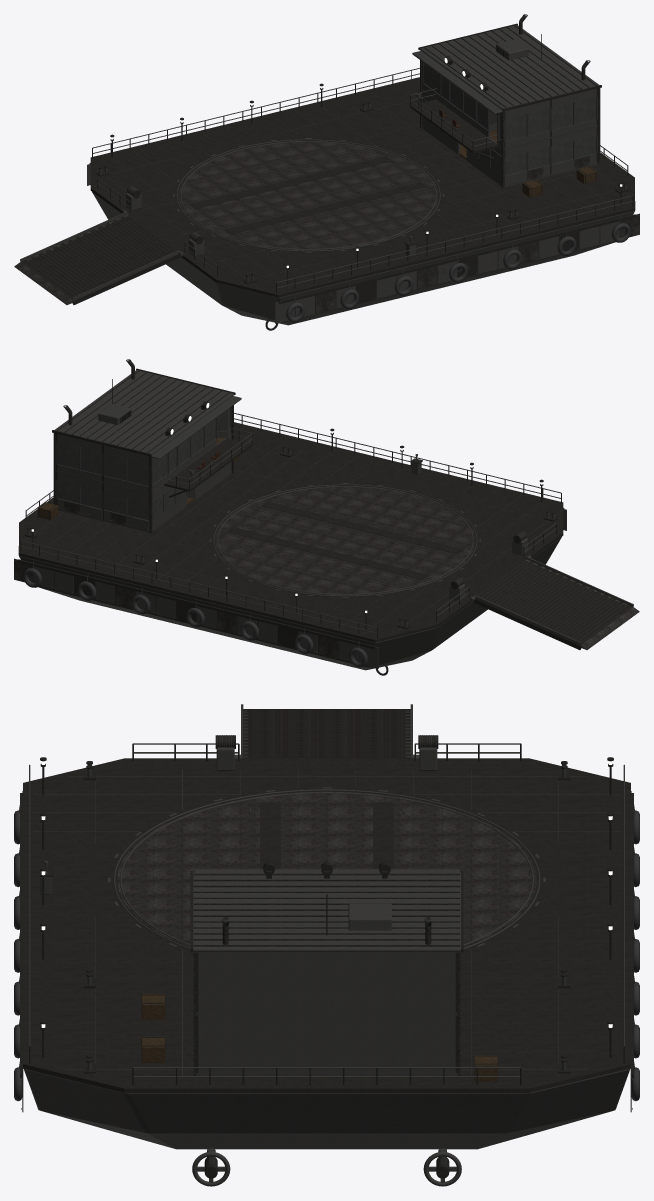
The model's file is hurda-ferry.glb.
The picture shows the model from 3 angles, top to bottom: view 1: azimuth 30°, elevation 25°; view 2: azimuth 150°, elevation 25°; view 3: azimuth 270°, elevation 25°; orthographic projection. The views are drawn at different scales.
Visible parts, largest first — view 1: Hull_Deck_Geometry, Turntable_Pivot_Geometry, Cabin_Structure_Geometry, BowRamp_Hinge_Geometry, Cabin_Structure.001_Geometry, Deck_Details_Geometry, Balcony_Stairs_Geometry, Turntable_Geometry, Bow_Ramp_Geometry; view 2: Hull_Deck_Geometry, Turntable_Pivot_Geometry, Cabin_Structure_Geometry, BowRamp_Hinge_Geometry, Cabin_Structure.001_Geometry, Balcony_Stairs_Geometry, Deck_Details_Geometry, Turntable_Geometry, Bow_Ramp_Geometry; view 3: Hull_Deck_Geometry, Cabin_Structure_Geometry, Turntable_Pivot_Geometry, Cabin_Structure.001_Geometry, BowRamp_Hinge_Geometry, Deck_Details_Geometry, Turntable_Geometry, Bow_Ramp_Geometry, Azimuth_Pivot_-8_Geometry, Azimuth_Pivot_8_Geometry.
Part boxes in pixels (bbox=[...]): Hull_Deck_Geometry: bbox=[87, 68, 639, 325]; Turntable_Pivot_Geometry: bbox=[178, 141, 438, 250]; Cabin_Structure_Geometry: bbox=[420, 25, 599, 187]; BowRamp_Hinge_Geometry: bbox=[14, 211, 180, 304]; Cabin_Structure.001_Geometry: bbox=[412, 23, 601, 187]; Deck_Details_Geometry: bbox=[96, 14, 629, 286]; Balcony_Stairs_Geometry: bbox=[410, 88, 498, 159]; Turntable_Geometry: bbox=[173, 138, 444, 252]; Bow_Ramp_Geometry: bbox=[122, 186, 204, 256]; Hull_Deck_Geometry: bbox=[14, 413, 566, 670]; Turntable_Pivot_Geometry: bbox=[215, 486, 475, 595]; Cabin_Structure_Geometry: bbox=[54, 370, 233, 532]; BowRamp_Hinge_Geometry: bbox=[473, 556, 639, 649]; Cabin_Structure.001_Geometry: bbox=[52, 368, 241, 532]; Balcony_Stairs_Geometry: bbox=[163, 427, 252, 497]; Deck_Details_Geometry: bbox=[24, 359, 557, 631]; Turntable_Geometry: bbox=[209, 483, 480, 597]; Bow_Ramp_Geometry: bbox=[449, 531, 531, 601]; Hull_Deck_Geometry: bbox=[14, 743, 639, 1149]; Cabin_Structure_Geometry: bbox=[193, 872, 460, 1075]; Turntable_Pivot_Geometry: bbox=[117, 791, 536, 947]; Cabin_Structure.001_Geometry: bbox=[190, 869, 463, 1075]; BowRamp_Hinge_Geometry: bbox=[241, 704, 412, 758]; Deck_Details_Geometry: bbox=[40, 757, 613, 1081]; Turntable_Geometry: bbox=[108, 787, 545, 950]; Bow_Ramp_Geometry: bbox=[215, 735, 438, 770]; Azimuth_Pivot_-8_Geometry: bbox=[192, 1148, 230, 1186]; Azimuth_Pivot_8_Geometry: bbox=[423, 1148, 461, 1186].
Bounding box in the file's own units: 68.58 × 22.12 × 43.26.
Materials: 15 (15 with a texture image).
